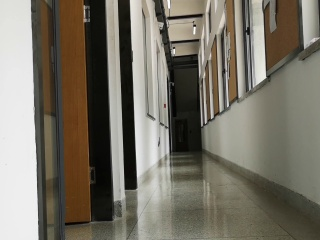room: (29, 3, 119, 226)
